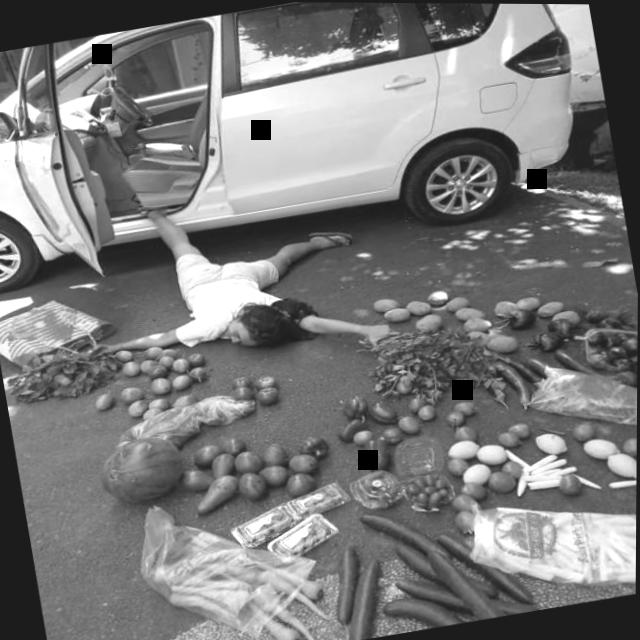Fall-Detected: (73, 155, 415, 393)
